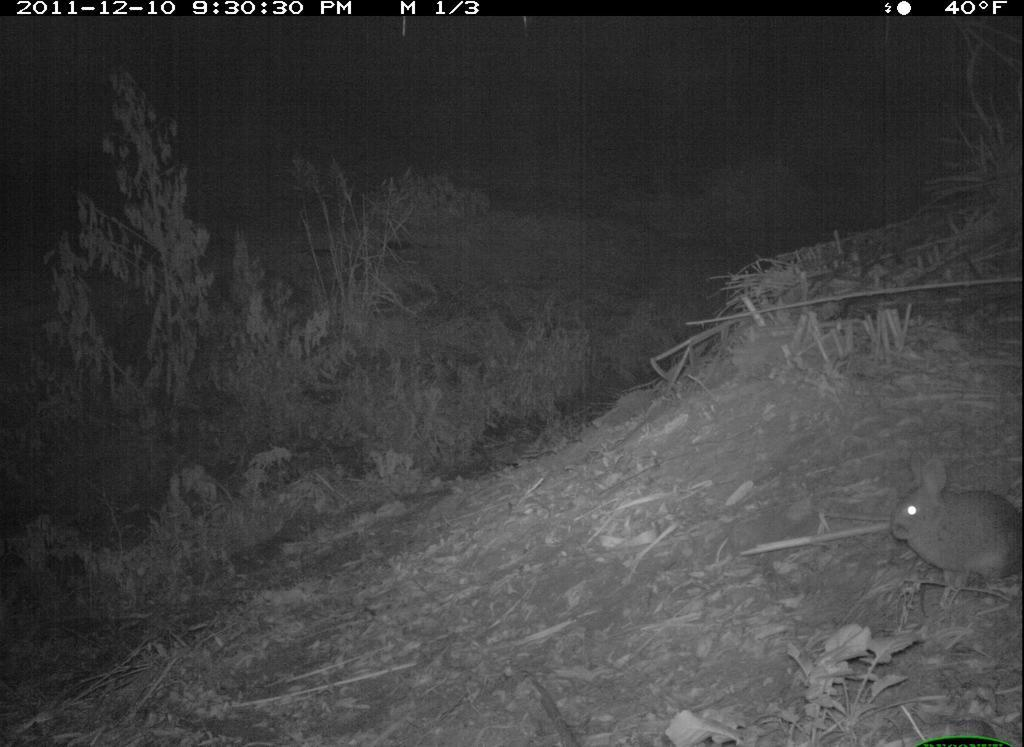rabbit: (886, 449, 1022, 600)
